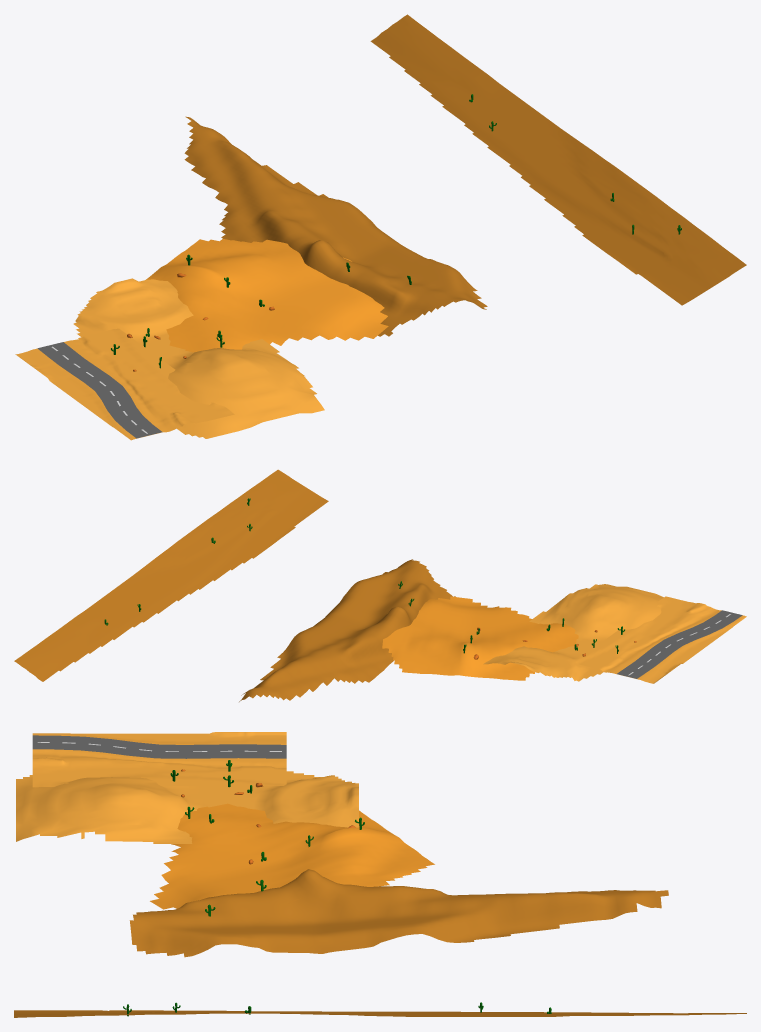
Rendered from DesertLandscape.fbx.
3 renders of one model, top to bottom at view 1: azimuth 30°, elevation 25°; view 2: azimuth 150°, elevation 25°; view 3: azimuth 270°, elevation 25°, orthographic. The views are drawn at different scales.
Visible parts, largest first — view 1: Backdrop, LargeLand004, LargeLand003, MediumLand, MainLand, Road; view 2: Backdrop, LargeLand004, LargeLand003, MediumLand, MainLand, Road; view 3: LargeLand004, LargeLand003, MediumLand, MainLand, Road, Backdrop.
Part boxes in pixels (x1,y1,x2,y2): Backdrop: (370,14,746,305); LargeLand004: (184,116,487,336); LargeLand003: (146,239,388,352); MediumLand: (73,278,324,438); MainLand: (15,328,234,440); Road: (37,342,162,438); Backdrop: (14,469,328,681); LargeLand004: (239,559,455,701); LargeLand003: (382,596,578,680); MediumLand: (483,584,663,681); MainLand: (575,596,746,683); Road: (617,610,742,678); LargeLand004: (129,869,668,957); LargeLand003: (150,803,434,909); MediumLand: (16,771,358,843); MainLand: (32,732,286,787); Road: (32,735,286,758); Backdrop: (14,1010,746,1017).
Size of the model in its own units: 74686 by 6299 by 72089.
